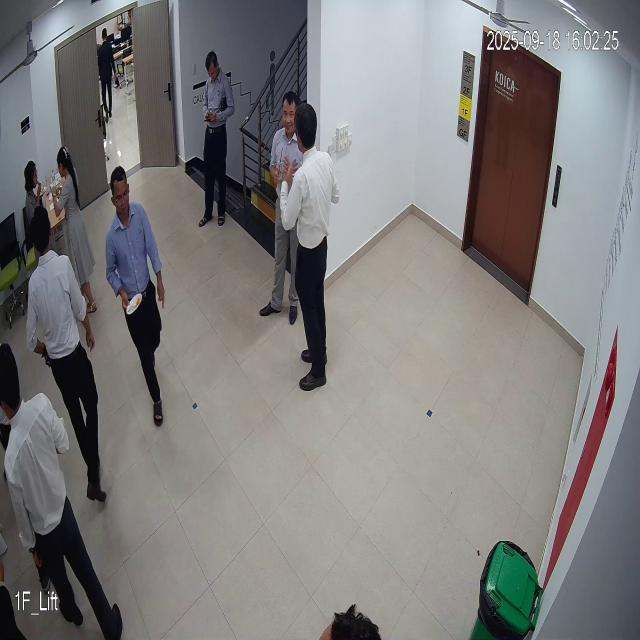face: (107, 165, 135, 227), (279, 90, 303, 141)
